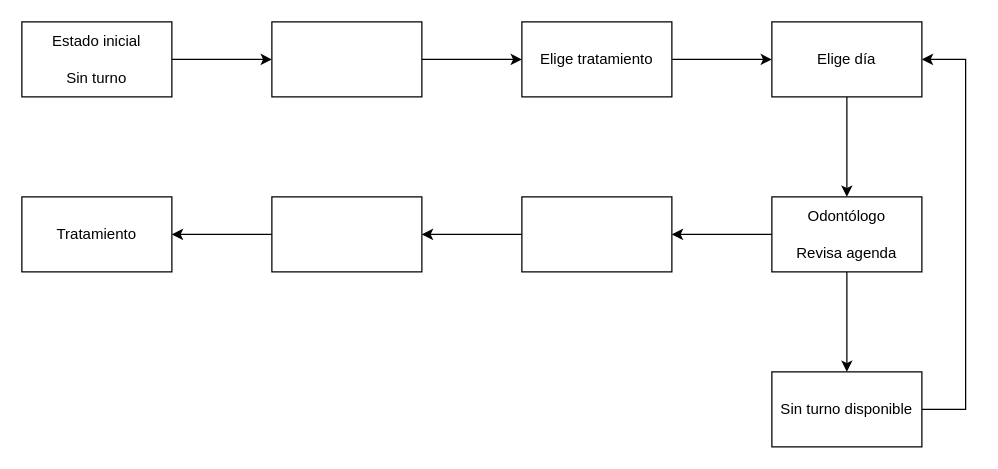
Image size: 998x469. Some labels were removed from this diagram. Here are the shapes that lost their labels. From the top down, the centre of each, then its label:
point 346,59: Llama por teléfono
point 346,234: Saca turno
point 596,234: Hay turno disponible
